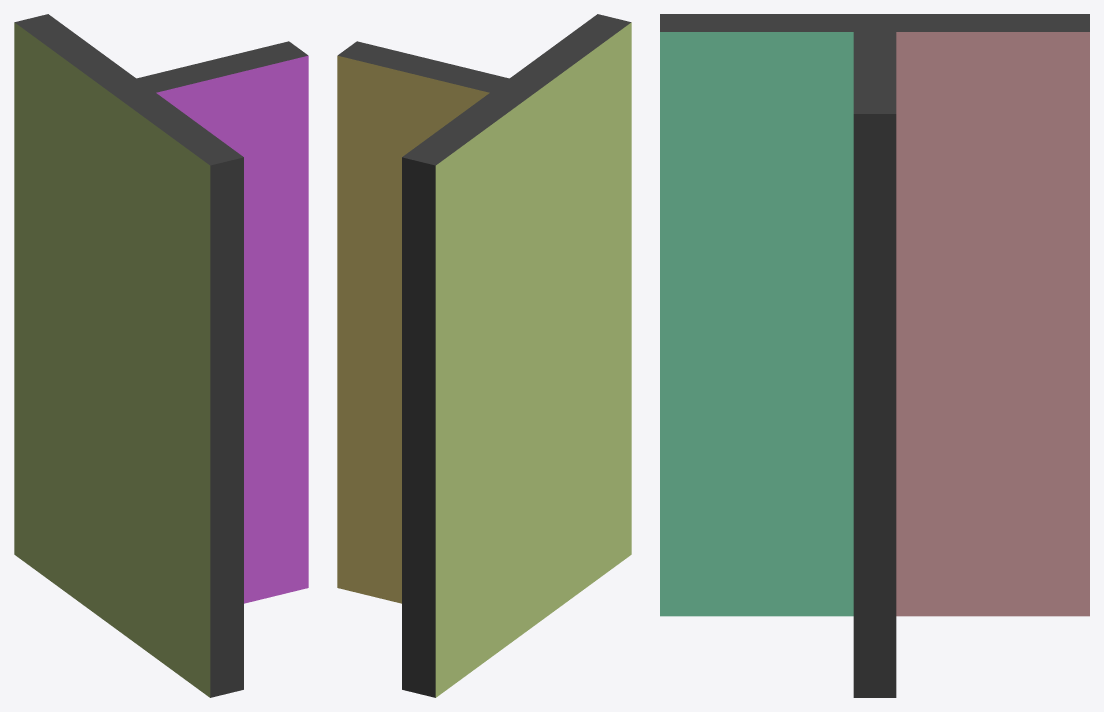
The model's file is TWall.fbx.
3 views of the same model, side by side, from view 1: azimuth 30°, elevation 25°; view 2: azimuth 150°, elevation 25°; view 3: azimuth 270°, elevation 25° (orthographic). The views are drawn at different scales.
Parts seen in each view (by area): view 1: CornerWall; view 2: CornerWall; view 3: CornerWall.
Part boxes in pixels (x1,y1,x2,y2): CornerWall: (14,14,308,697); CornerWall: (337,14,631,697); CornerWall: (660,14,1089,697).
Size of the model in its own units: 110 by 300 by 200.
